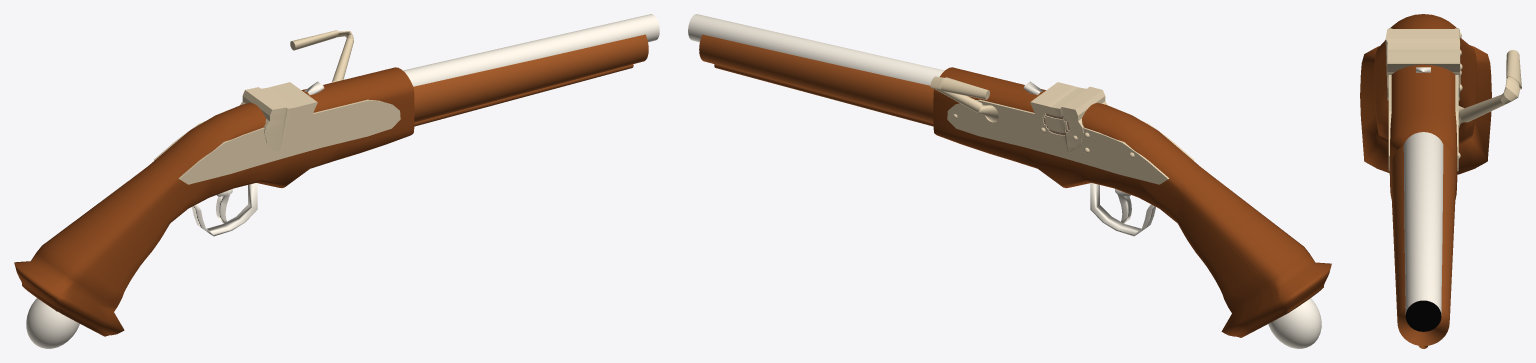
Rendered from Matchlock.fbx.
3 renders of one model, left to right at view 1: azimuth 30°, elevation 25°; view 2: azimuth 150°, elevation 25°; view 3: azimuth 270°, elevation 25°, orthographic. The views are drawn at different scales.
Parts seen in each view (by area): view 1: Cylinder; view 2: Cylinder; view 3: Cylinder.
Boxes of the visible parts, x1,y1,x2,y2 form: Cylinder: [14, 14, 659, 348]; Cylinder: [688, 14, 1331, 348]; Cylinder: [1360, 14, 1521, 348].
Size of the model in its own units: 484 by 159 by 81.66.
